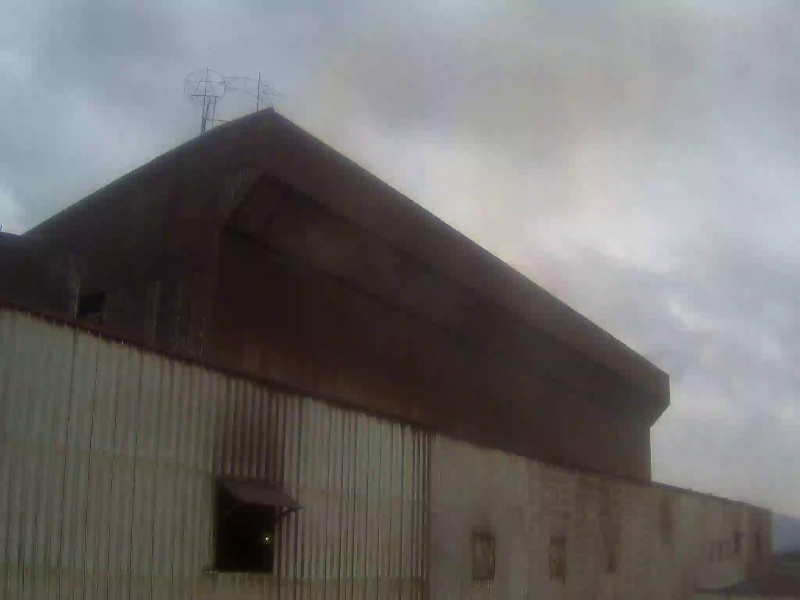bom: (4, 7, 265, 166), (668, 187, 800, 409)
ruim: (336, 42, 599, 269)
